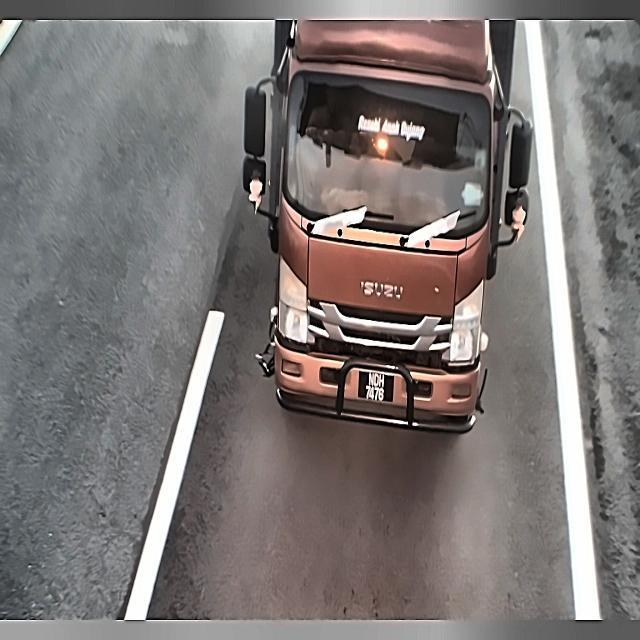car: (353, 366, 396, 406)
